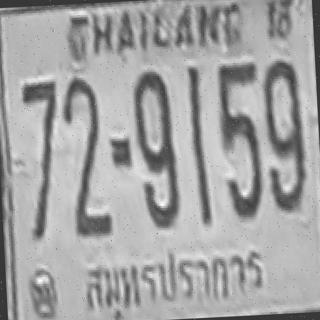N01: (187, 65, 205, 184)
N05: (215, 60, 263, 218), (216, 60, 261, 158)
N07: (21, 79, 59, 168)
N09: (261, 59, 306, 210)
P57: (78, 238, 273, 317)
